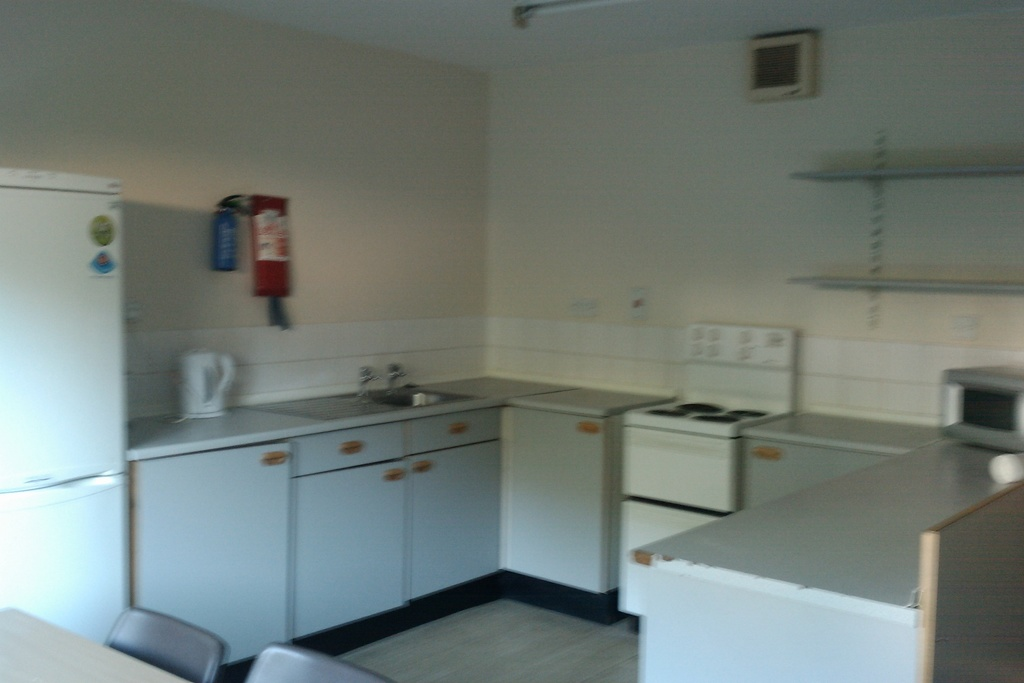cabinet door: (137, 446, 289, 646), (506, 412, 605, 578), (307, 464, 403, 615), (410, 450, 498, 574), (748, 438, 879, 490), (294, 422, 409, 463), (409, 415, 508, 448)
handle: (46, 471, 118, 496), (750, 441, 777, 467), (450, 415, 471, 438), (382, 466, 406, 485), (342, 439, 366, 457), (265, 452, 286, 472), (414, 452, 430, 478), (577, 421, 599, 438)
refrigerator door: (1, 184, 121, 476), (4, 472, 124, 639)
